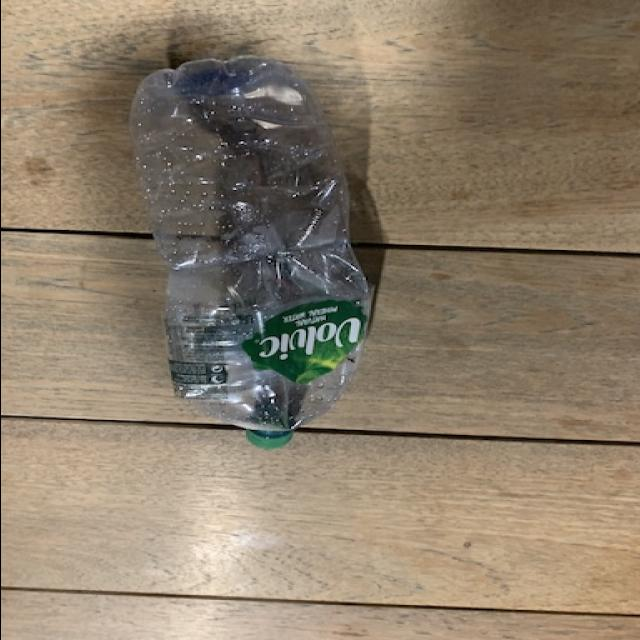PET: (125, 54, 375, 448)
